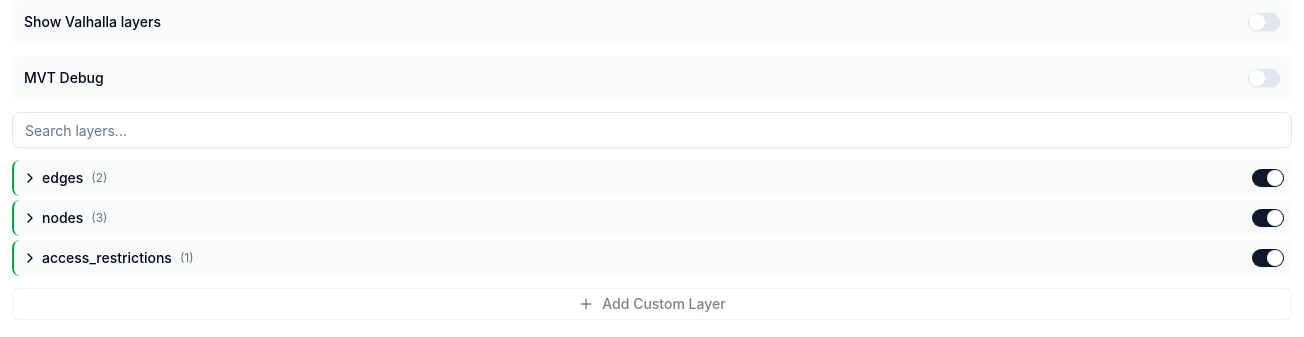
Test: TilesControl › search functionality › should show "No layers found" when search has no results
This screenshot has width=1304, height=337.
Type "nonexistent" into the field with placeholder "Search layers..." at [652, 130], box [12,112,1292,148]
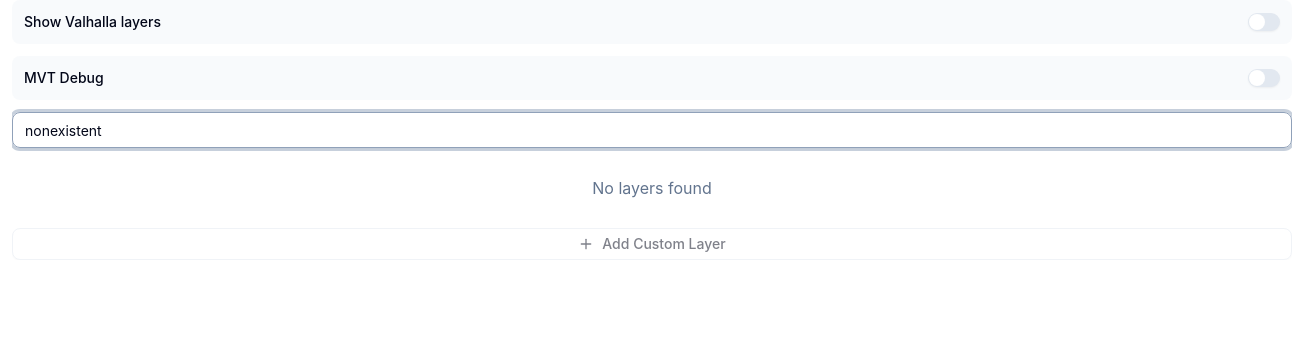
Check: the text "No layers found" is shown, box [592,178,712,198]
